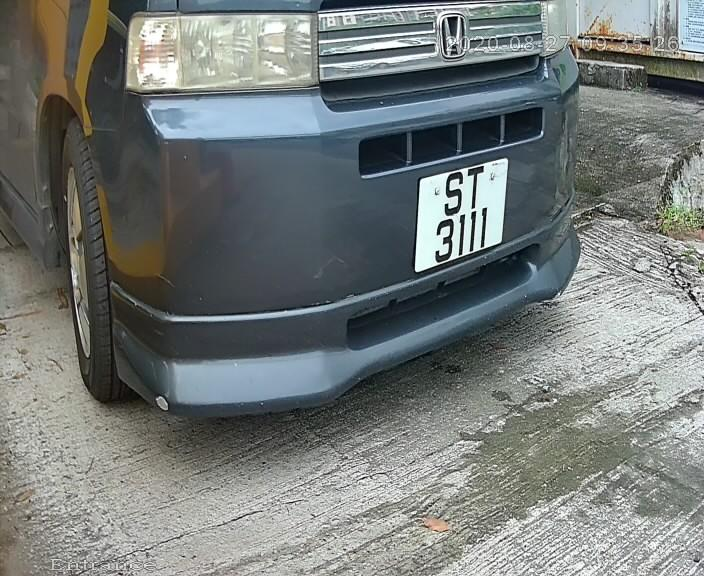Car: (23, 3, 623, 456)
License Plate: (397, 142, 517, 288)
